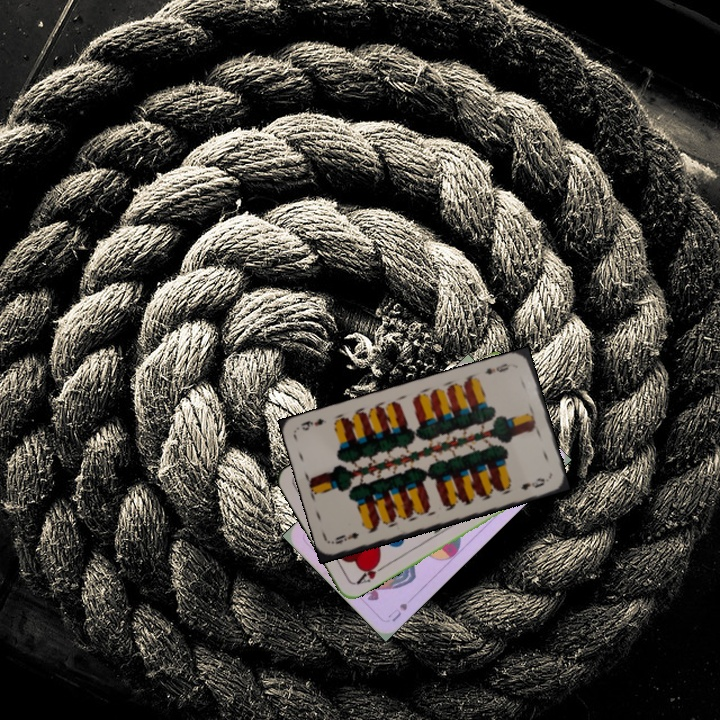E9: (331, 528, 361, 547), (481, 359, 511, 377)
HA: (352, 557, 388, 587)
SU: (384, 599, 410, 625)
